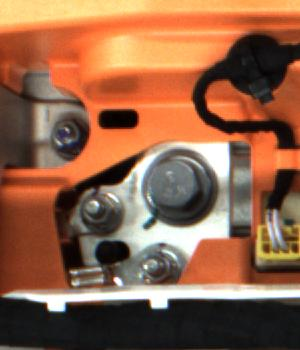nut_b: (141, 143, 216, 229)
